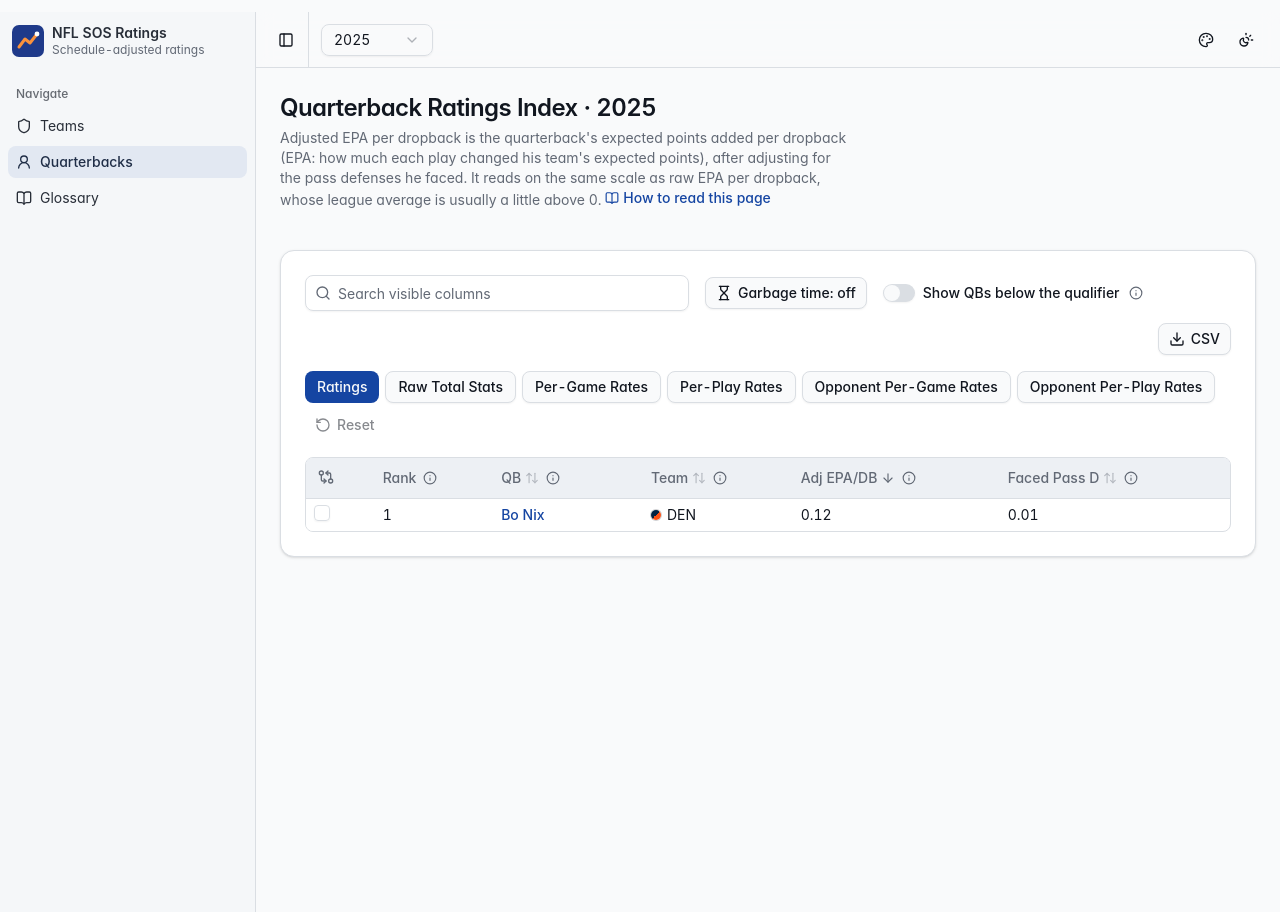
Test: QB index › adds the QBs below the qualifier once the switch is on
The width and height of the screenshot is (1280, 912).
Check: the link "Bo Nix" is shown, box [501,504,544,524]
Click the switch named "Show QBs below the qualifier": (899, 293) [883,284,915,302]
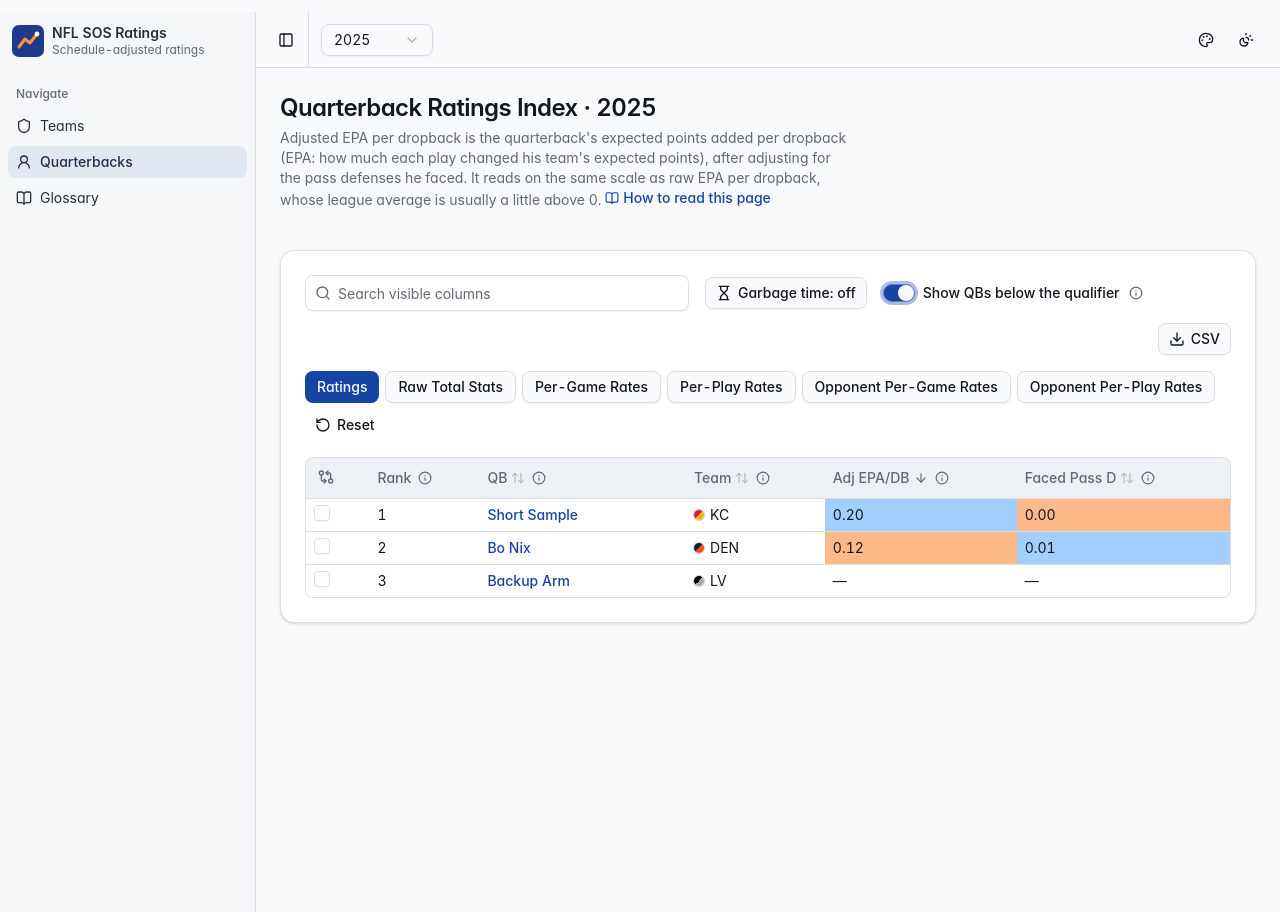
Check: the link "Short Sample" is shown, box [487,504,578,524]
Check: the link "Backup Arm" is shown, box [487,570,570,590]
